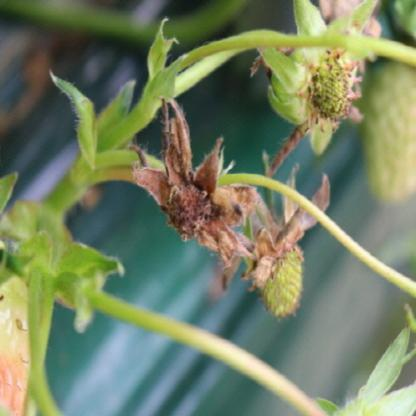Strawberry_Gray_Mold: (126, 97, 264, 271)
